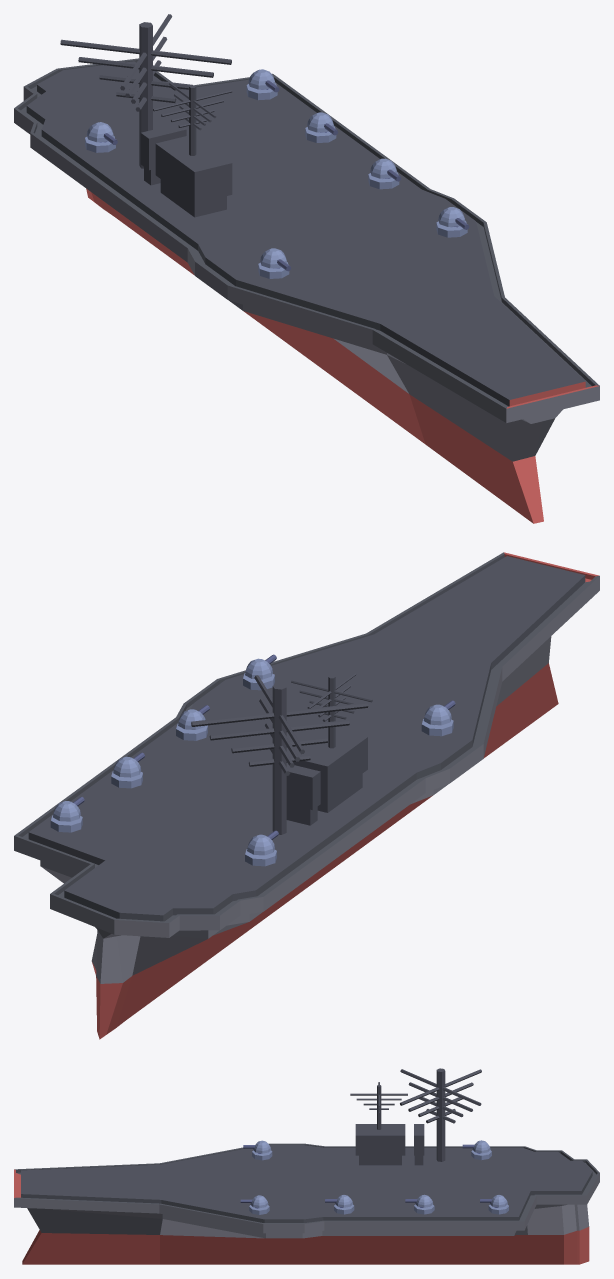
The model's file is aircraft.fbx.
3 renders of one model, top to bottom at view 1: azimuth 30°, elevation 25°; view 2: azimuth 150°, elevation 25°; view 3: azimuth 270°, elevation 25°, orthographic. The views are drawn at different scales.
Parts seen in each view (by area): view 1: Cube, Cube.001, Cylinder.016, Cylinder, Cylinder.010, Cube.002; view 2: Cube, Cube.001, Cylinder.016, Cylinder.010, Cube.002, Cylinder; view 3: Cube, Cube.001, Cylinder.016, Cylinder.010, Cylinder, Cube.002.
Part boxes in pixels (<box>): Cube: <box>14,58,599,523</box>; Cube.001: <box>155,135,232,217</box>; Cylinder.016: <box>60,14,231,111</box>; Cylinder: <box>153,83,232,155</box>; Cylinder.010: <box>139,22,152,168</box>; Cube.002: <box>140,123,186,185</box>; Cube: <box>14,552,599,1039</box>; Cube.001: <box>289,728,367,812</box>; Cylinder.016: <box>191,675,368,775</box>; Cylinder.010: <box>272,683,286,834</box>; Cube.002: <box>286,763,320,825</box>; Cylinder: <box>291,673,372,748</box>; Cube: <box>14,1143,599,1264</box>; Cube.001: <box>355,1124,405,1165</box>; Cylinder.016: <box>400,1069,481,1123</box>; Cylinder.010: <box>436,1068,445,1161</box>; Cylinder: <box>350,1082,407,1129</box>; Cube.002: <box>414,1124,424,1165</box>.
Size of the model in its own units: 479 by 481 by 1475.
